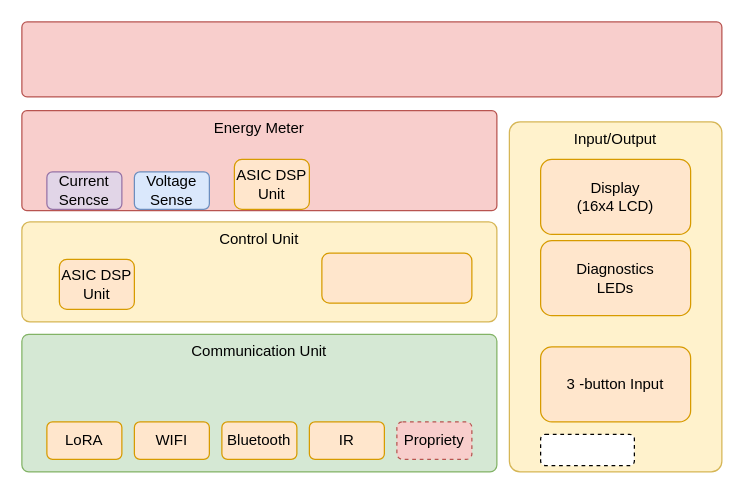
The diagram is 744 pixels wide and 494 high, and some of its shapes have lost their labels. Each missing label, with the centre of its shape:
ESP32: point (396, 277)
ISP header: point (586, 449)
Power Supply: point (371, 59)
